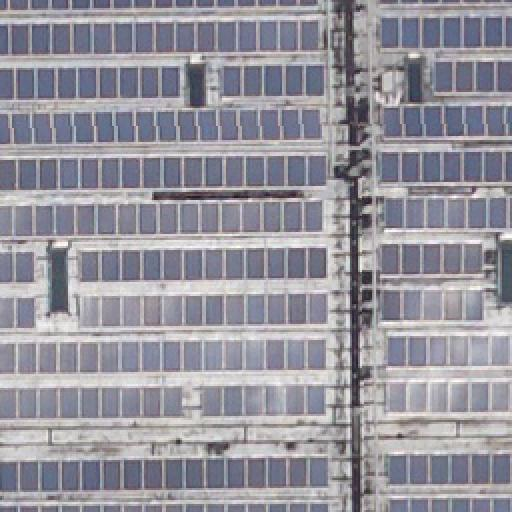solar-panel: (1, 450, 335, 494), (1, 200, 327, 240), (0, 154, 324, 194), (0, 20, 320, 60), (0, 109, 324, 147), (0, 338, 328, 374), (75, 247, 325, 281), (80, 295, 328, 329), (1, 385, 183, 423), (0, 66, 180, 102), (377, 198, 511, 234), (202, 382, 330, 418), (377, 107, 511, 141), (377, 15, 511, 49), (385, 448, 511, 484), (385, 378, 511, 414), (0, 1, 320, 15), (377, 150, 511, 182), (385, 335, 511, 369), (1, 500, 335, 512), (378, 287, 486, 321), (379, 244, 485, 276), (221, 66, 323, 98), (432, 60, 512, 96), (385, 496, 511, 512), (0, 296, 36, 328), (0, 252, 32, 284), (377, 0, 511, 4)
